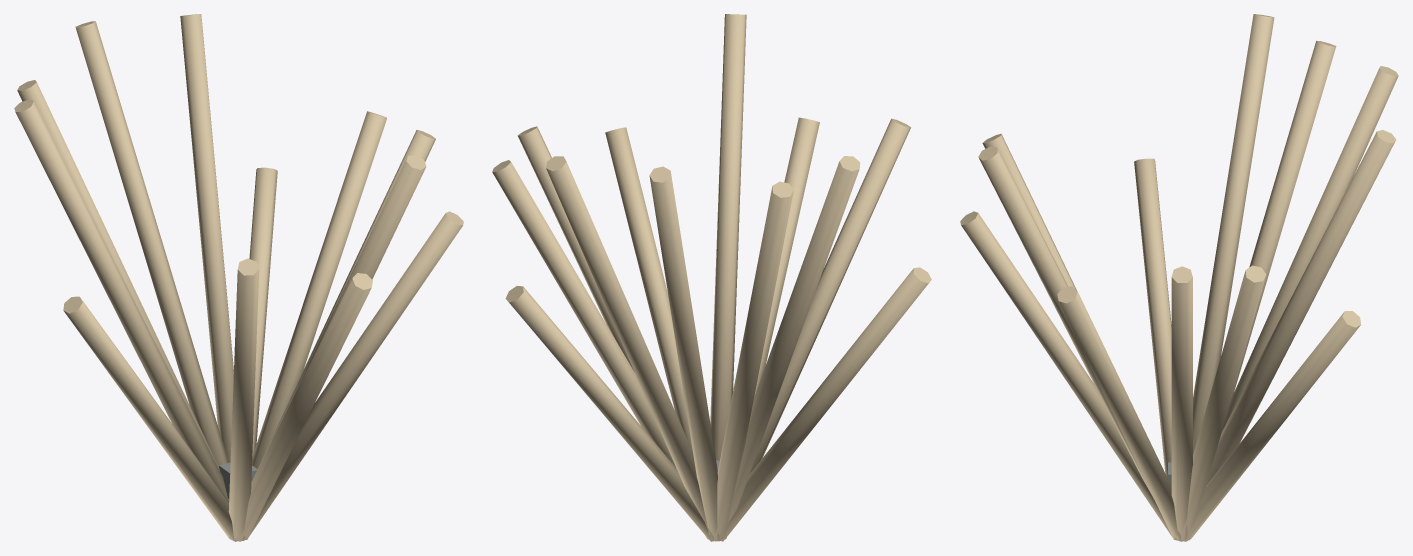
The model's file is arizona-grass_lod0.glb.
3 renders of one model, left to right at view 1: azimuth 30°, elevation 25°; view 2: azimuth 150°, elevation 25°; view 3: azimuth 270°, elevation 25°, orthographic. The views are drawn at different scales.
Parts seen in each view (by area): view 1: RF_DryBlade.007, RF_DryBlade, RF_DryBlade.010, RF_DryBlade.009, RF_DryBlade.006, RF_DryBlade.005, RF_DryBlade.003, RF_DryBlade.008, RF_DryBlade.004, RF_DryBlade.011, RF_DryBlade.002, RF_DryBlade.001; view 2: RF_DryBlade.011, RF_DryBlade, RF_DryBlade.007, RF_DryBlade.002, RF_DryBlade.010, RF_DryBlade.009, RF_DryBlade.008, RF_DryBlade.005, RF_DryBlade.004, RF_DryBlade.006, RF_DryBlade.003, RF_DryBlade.001; view 3: RF_DryBlade.010, RF_DryBlade, RF_DryBlade.003, RF_DryBlade.007, RF_DryBlade.005, RF_DryBlade.004, RF_DryBlade.006, RF_DryBlade.009, RF_DryBlade.001, RF_DryBlade.002, RF_DryBlade.011, RF_DryBlade.008.
Boxes of the visible parts, x1,y1,x2,y2 form: RF_DryBlade.007: (75, 21, 227, 466); RF_DryBlade: (180, 14, 233, 462); RF_DryBlade.010: (14, 99, 231, 539); RF_DryBlade.009: (252, 111, 386, 469); RF_DryBlade.006: (245, 211, 463, 539); RF_DryBlade.005: (63, 296, 237, 541); RF_DryBlade.003: (237, 273, 372, 541); RF_DryBlade.008: (228, 258, 259, 541); RF_DryBlade.004: (249, 167, 277, 455); RF_DryBlade.011: (242, 155, 426, 540); RF_DryBlade.002: (17, 80, 219, 470); RF_DryBlade.001: (260, 129, 435, 462); RF_DryBlade.011: (710, 14, 746, 460); RF_DryBlade: (546, 156, 722, 541); RF_DryBlade.007: (649, 166, 720, 541); RF_DryBlade.002: (714, 181, 793, 541); RF_DryBlade.010: (717, 156, 860, 541); RF_DryBlade.009: (492, 160, 708, 539); RF_DryBlade.008: (750, 118, 910, 473); RF_DryBlade.005: (721, 267, 931, 541); RF_DryBlade.004: (505, 286, 712, 541); RF_DryBlade.006: (605, 127, 692, 451); RF_DryBlade.003: (754, 117, 819, 396); RF_DryBlade.001: (517, 126, 634, 371); RF_DryBlade.010: (1193, 14, 1274, 454); RF_DryBlade: (1189, 130, 1396, 539); RF_DryBlade.003: (960, 211, 1175, 539); RF_DryBlade.007: (1222, 66, 1398, 431); RF_DryBlade.005: (1134, 158, 1171, 477); RF_DryBlade.004: (1183, 311, 1361, 541); RF_DryBlade.006: (1057, 286, 1183, 541); RF_DryBlade.009: (1179, 265, 1266, 541); RF_DryBlade.001: (1171, 266, 1192, 540); RF_DryBlade.002: (1231, 40, 1336, 398); RF_DryBlade.011: (978, 146, 1176, 540); RF_DryBlade.008: (982, 133, 1076, 290).
Size of the model in its own units: 0.9298 by 1.04 by 0.9223.
